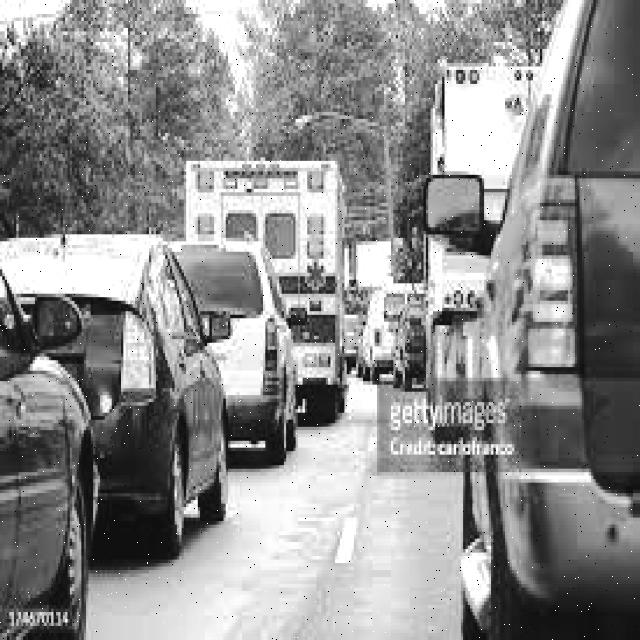Ambulance: (266, 154, 352, 395), (178, 149, 350, 257)
